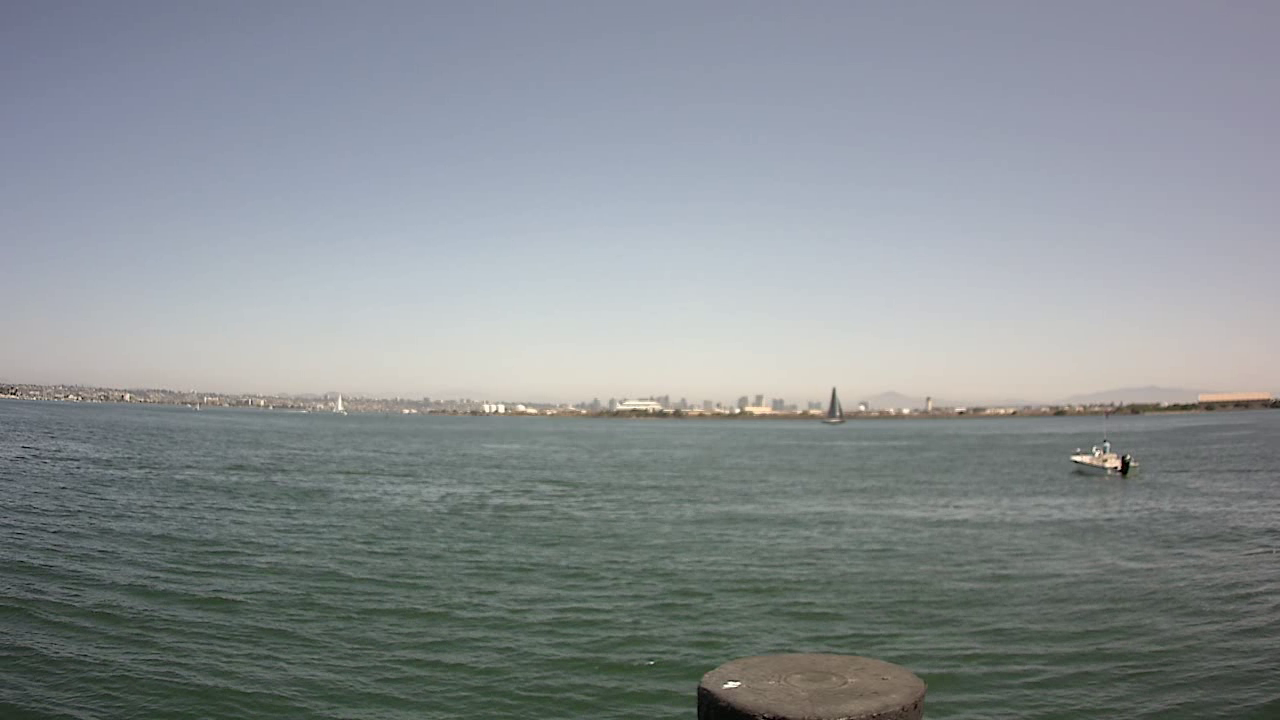target: (1069, 436, 1139, 479)
